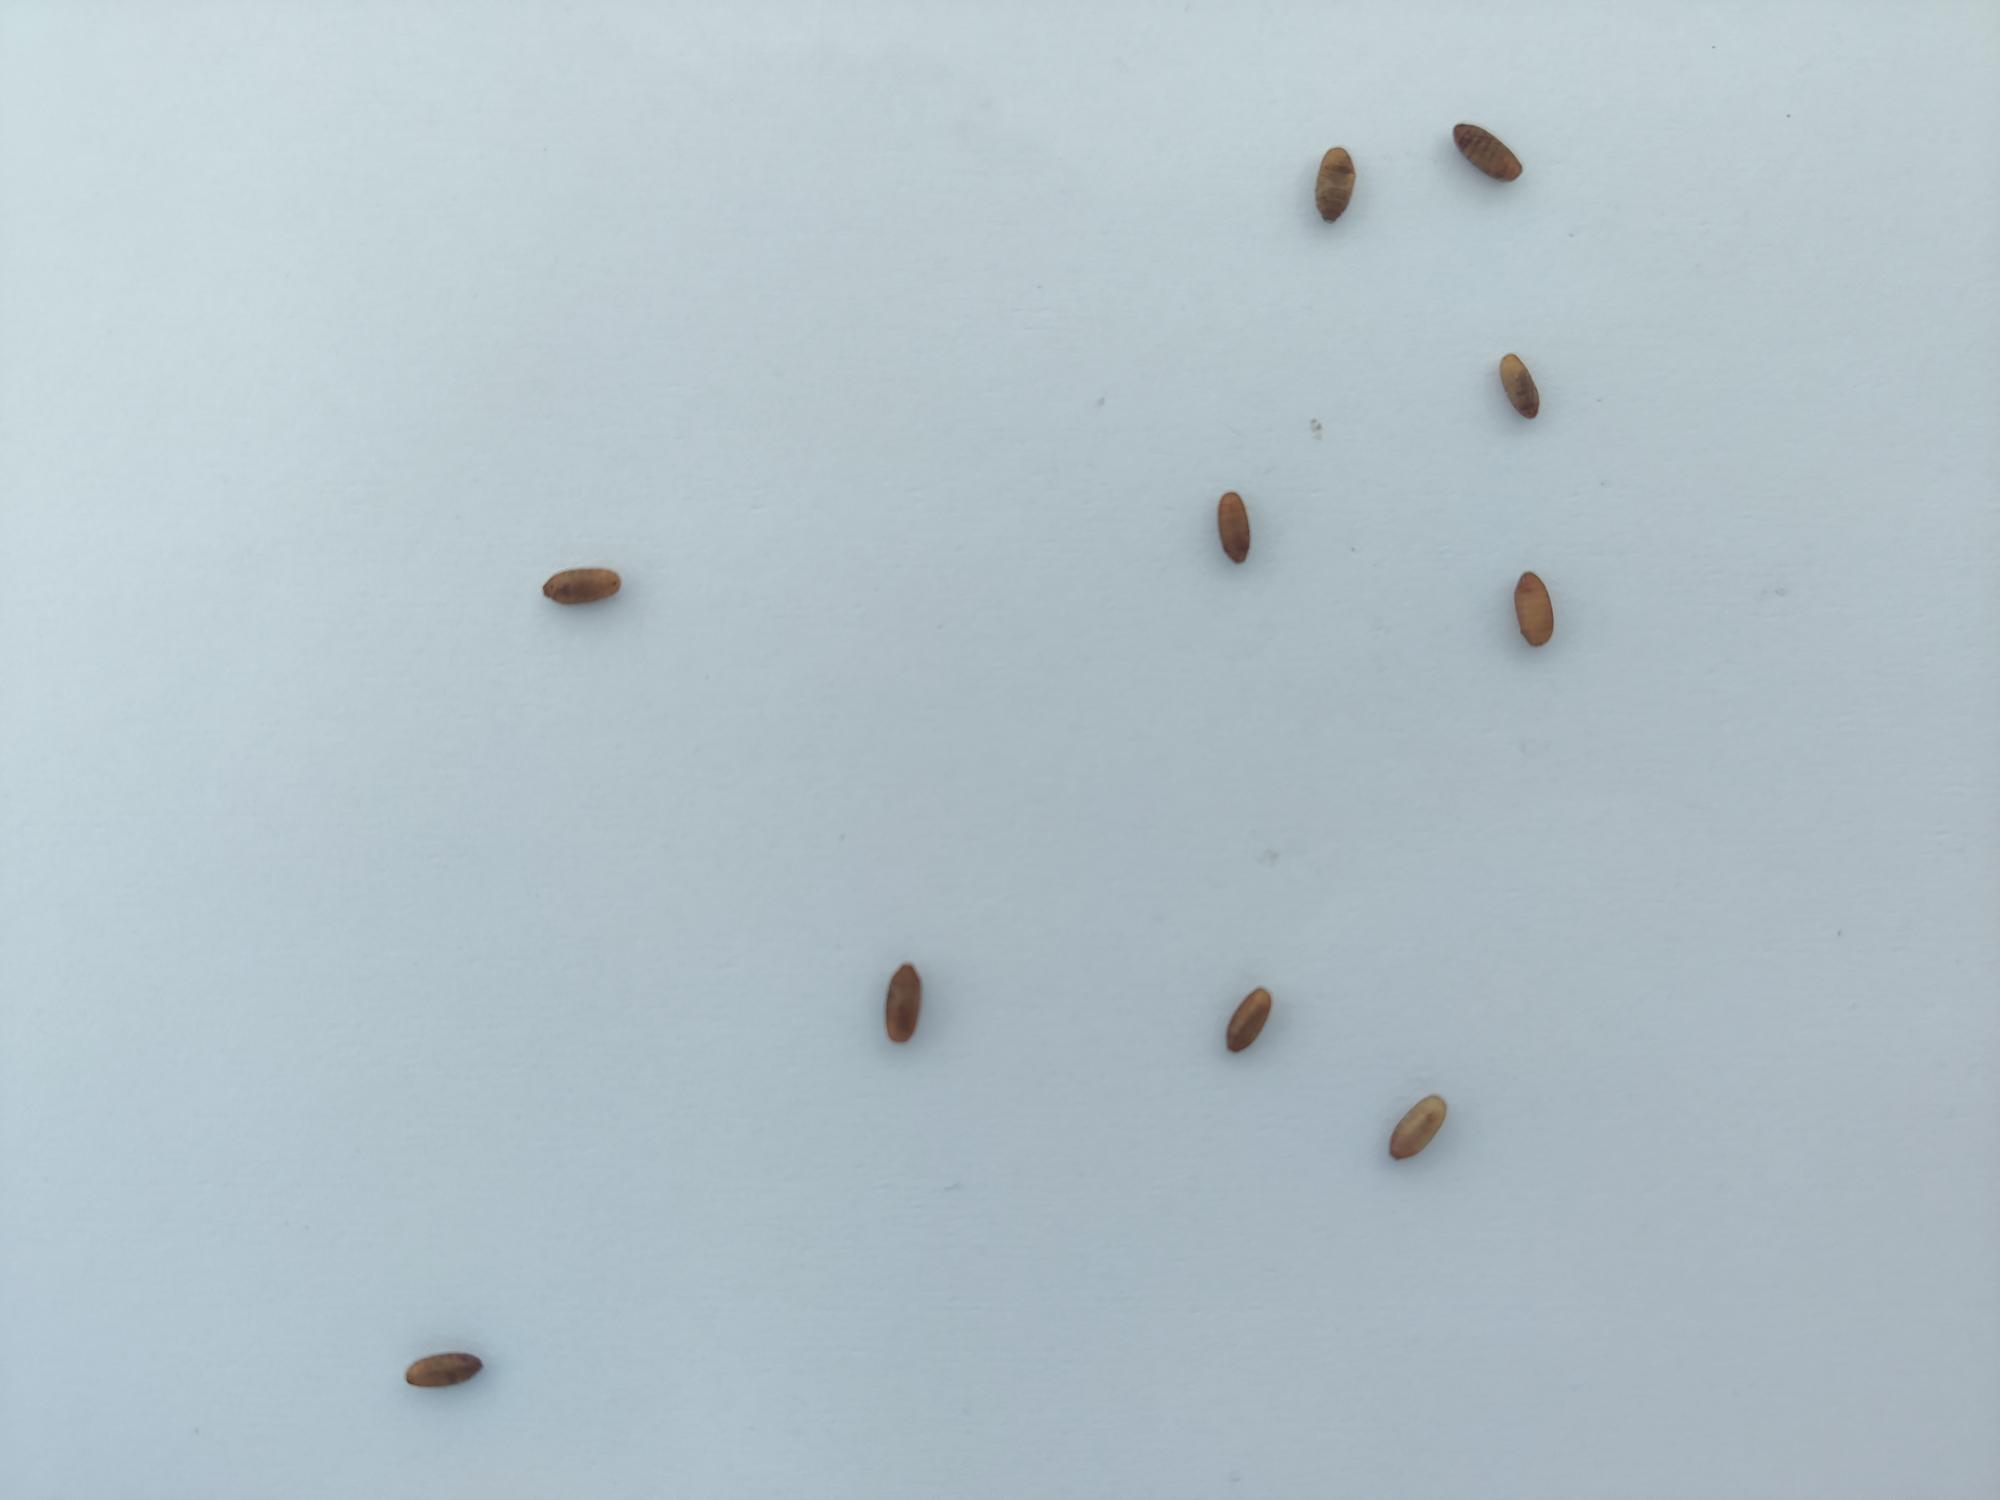pupae: (369, 1322, 507, 1418), (518, 550, 652, 633), (868, 933, 946, 1067), (1369, 1087, 1465, 1185), (1213, 975, 1285, 1075), (1436, 120, 1534, 192), (1507, 555, 1564, 663), (1485, 343, 1556, 430), (1206, 485, 1269, 578), (1302, 136, 1361, 235)
